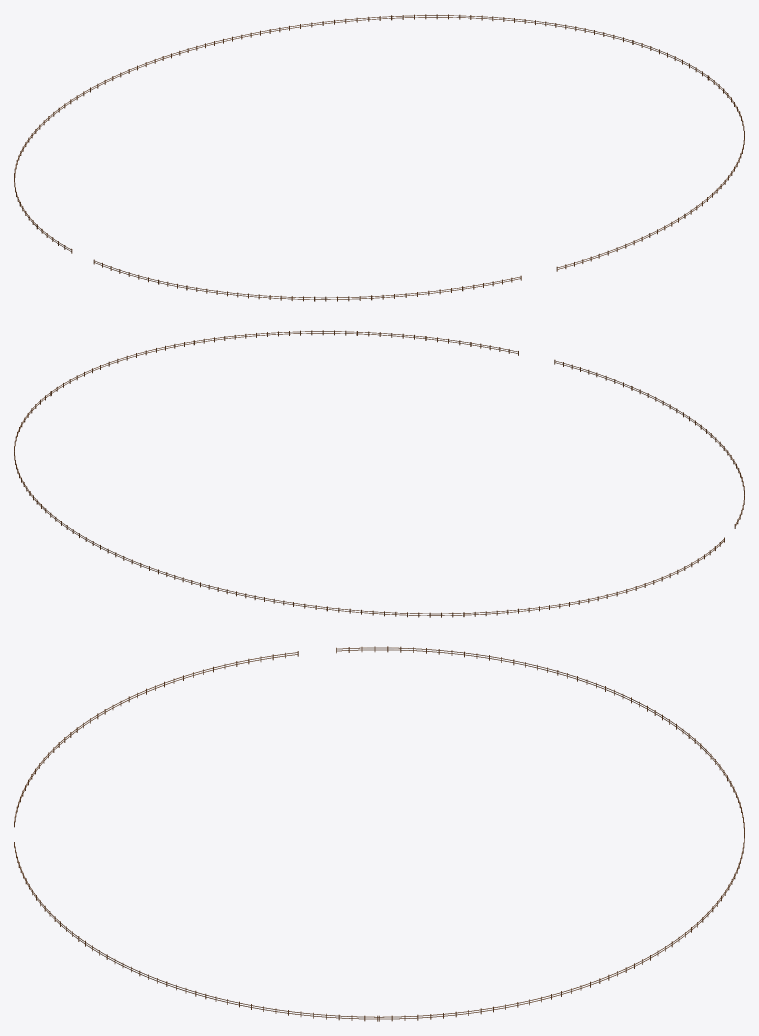
The model's file is oval1_fence.glb.
3 views of the same model, one above another, from view 1: azimuth 30°, elevation 25°; view 2: azimuth 150°, elevation 25°; view 3: azimuth 270°, elevation 25° (orthographic). The views are drawn at different scales.
Parts seen in each view (by area): view 1: Fence; view 2: Fence; view 3: Fence.
Boxes of the visible parts, x1,y1,x2,y2 form: Fence: [14, 14, 744, 301]; Fence: [14, 330, 744, 617]; Fence: [14, 646, 744, 1021].
Size of the model in its own units: 183 by 1.25 by 153.
